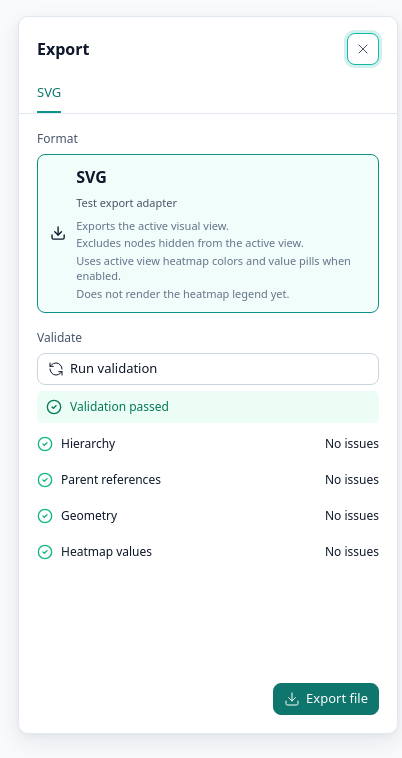
Test case: editor export workflows › surfaces adapter export failures as diagnostics
Click the button "Export file" at (326, 699), box top-left (273, 683), bottom-right (379, 715)
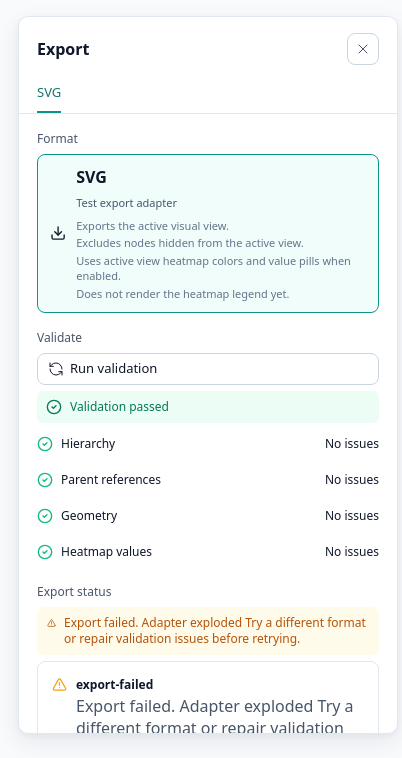
Expected: the 1st text "Export failed. Adapter exploded" is shown, top-left (64, 614), bottom-right (366, 647)
